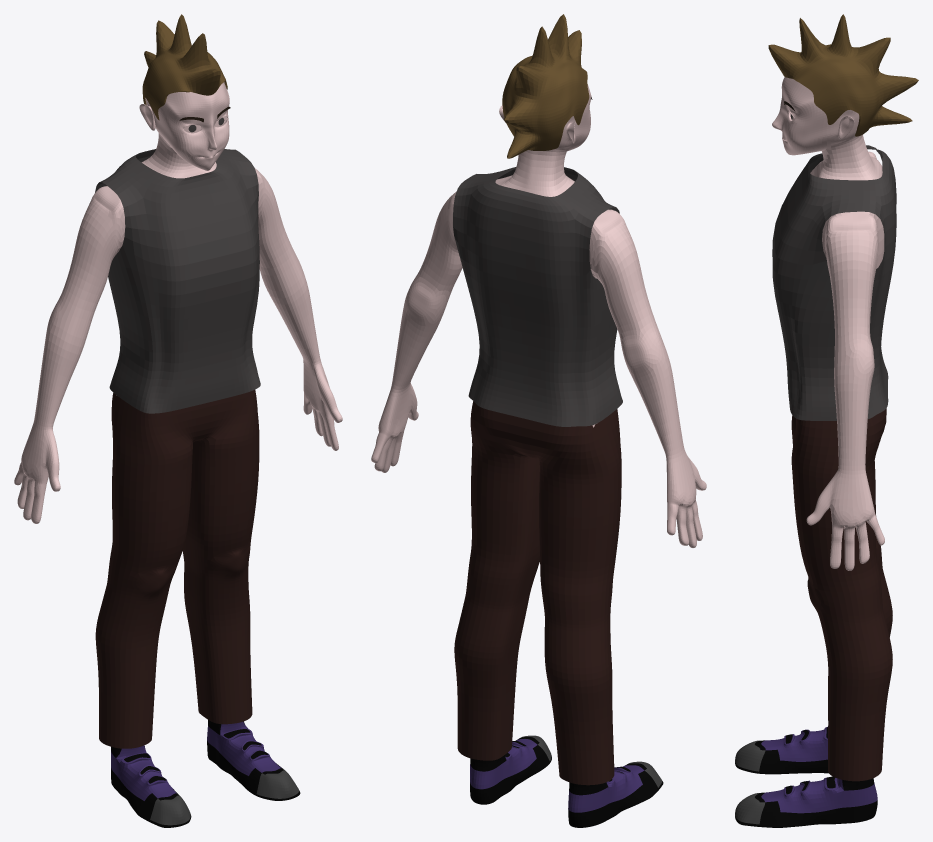
File: Player.fbx
The picture shows the model from 3 angles, left to right: view 1: azimuth 30°, elevation 25°; view 2: azimuth 150°, elevation 25°; view 3: azimuth 270°, elevation 25°; orthographic projection. The views are drawn at different scales.
Parts seen in each view (by area): view 1: Pants, Body.001, Body, Shoes, Hair_random2; view 2: Pants, Body.001, Body, Hair_random2, Shoes; view 3: Pants, Body, Body.001, Shoes, Hair_random2.
Boxes of the visible parts, x1,y1,x2,y2 form: Pants: (95,390,259,748); Body.001: (95,149,260,413); Body: (14,82,342,523); Shoes: (111,720,300,827); Hair_random2: (142,14,227,120); Pants: (454,401,621,785); Body.001: (453,167,622,426); Body: (371,84,706,547); Hair_random2: (502,14,589,158); Shoes: (470,735,663,827); Pants: (791,408,892,781); Body: (772,77,884,570); Body.001: (772,145,896,420); Shoes: (735,727,877,827); Hair_random2: (768,14,918,136).
Bounding box in the file's own units: 80.87 × 191 × 40.96.
